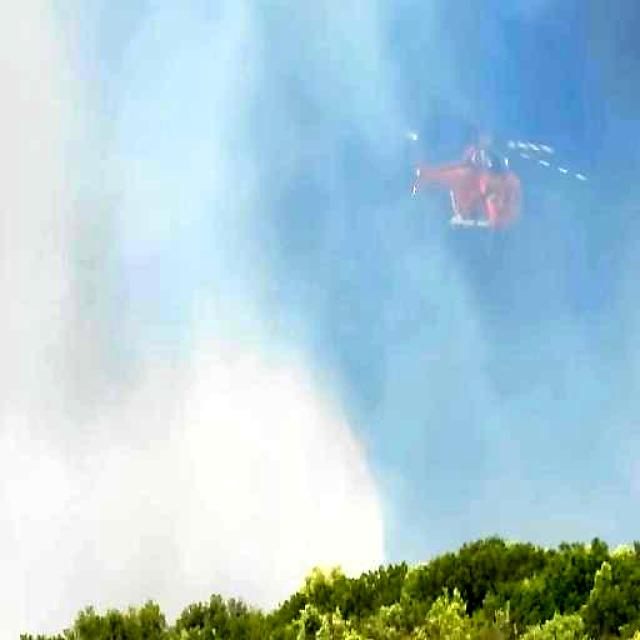drone: (391, 79, 596, 272)
